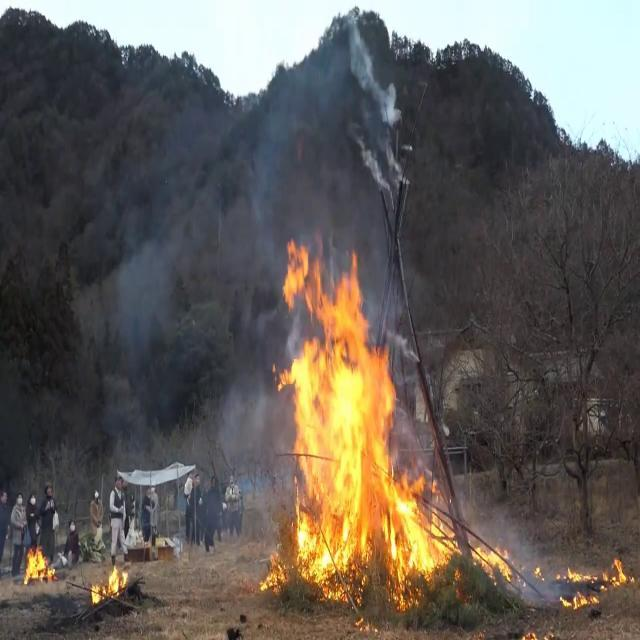Fire: (265, 232, 443, 610), (428, 506, 512, 598), (562, 548, 636, 608), (88, 560, 132, 605), (23, 540, 54, 584)
Smoke: (96, 69, 344, 379), (334, 12, 406, 202)
